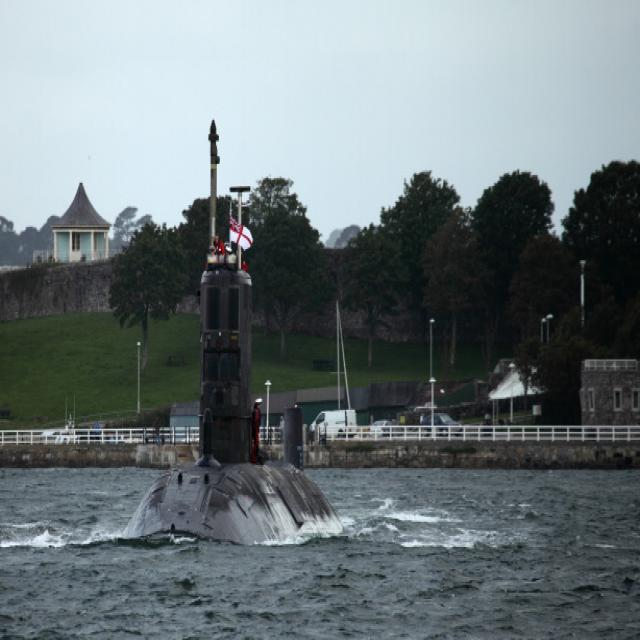submarine: (98, 93, 372, 551)
